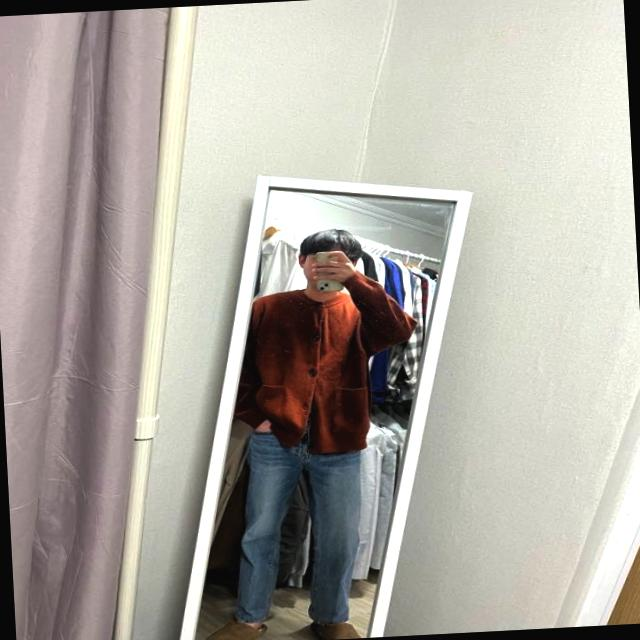cardigan: (234, 267, 422, 459)
denimpants: (224, 424, 370, 632)
